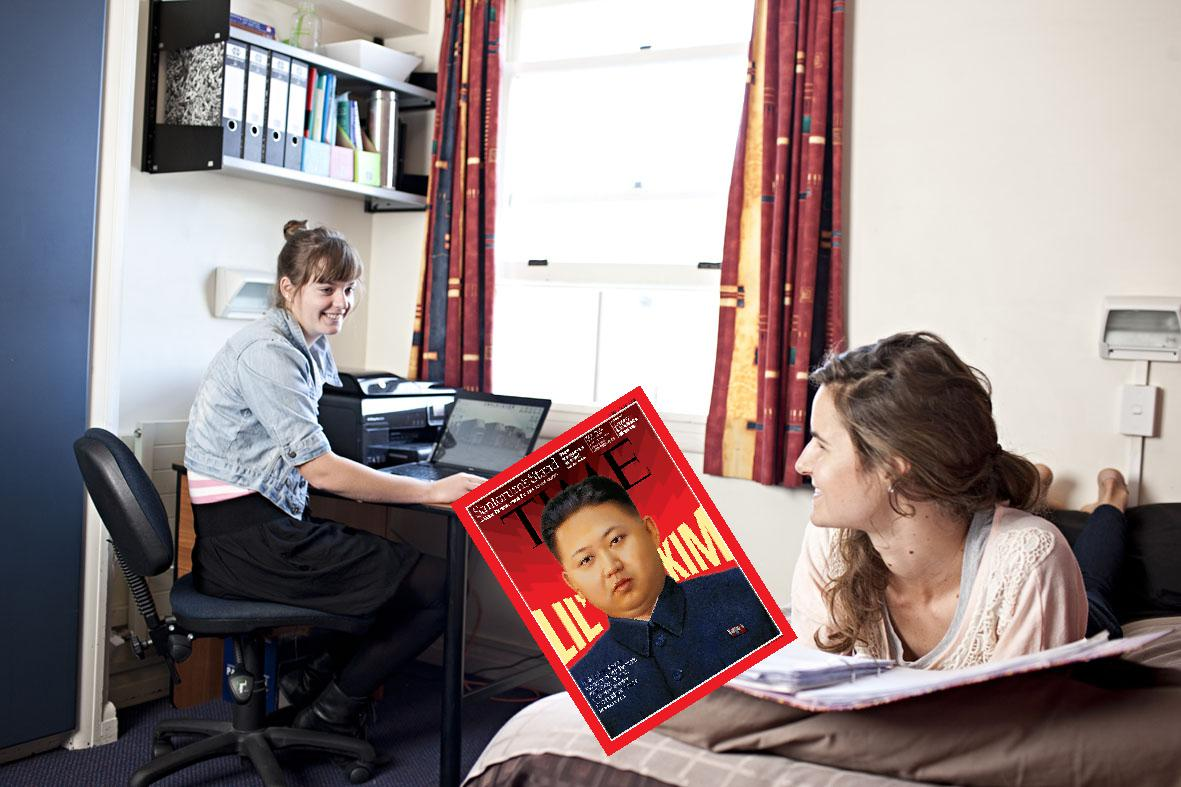times: (449, 385, 796, 762)
